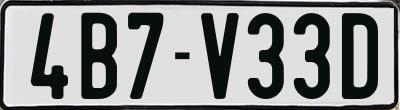3: (247, 11, 286, 100), (292, 10, 331, 96)
4: (31, 10, 69, 100)
7: (126, 10, 167, 96)
B: (80, 11, 116, 102)
D: (339, 12, 375, 99)
V: (201, 10, 239, 98)
